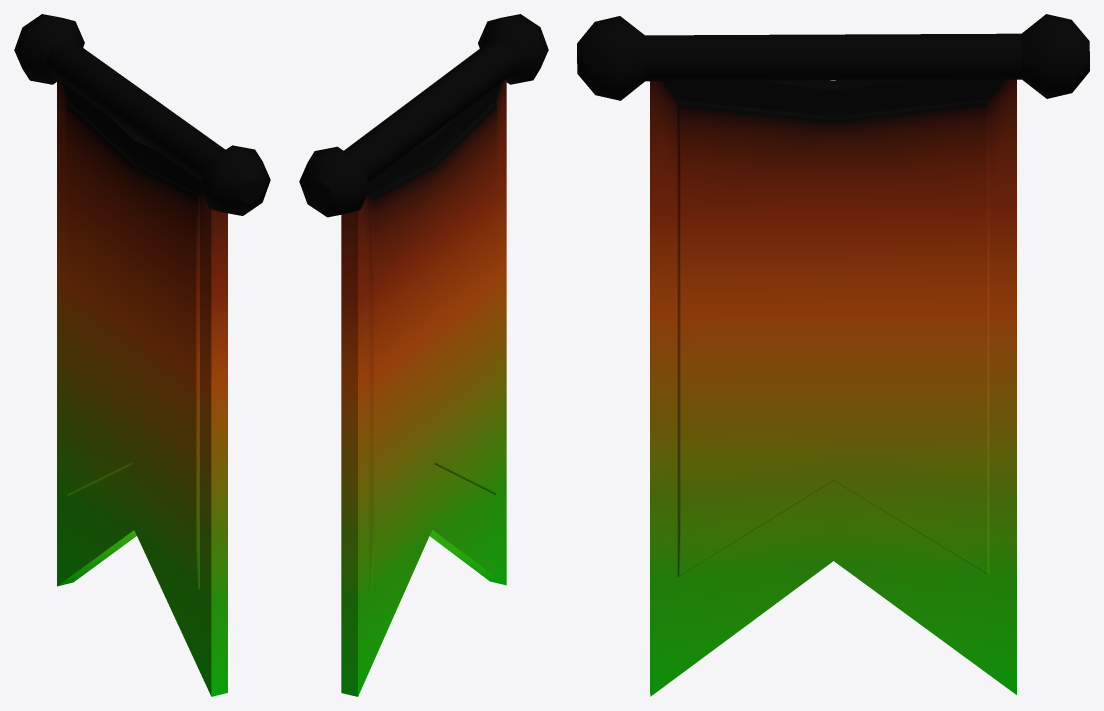
Rendered from ArenaScene_Flag.fbx.
The picture shows the model from 3 angles, left to right: view 1: azimuth 30°, elevation 25°; view 2: azimuth 150°, elevation 25°; view 3: azimuth 270°, elevation 25°; orthographic projection. The views are drawn at different scales.
Parts seen in each view (by area): view 1: Flag; view 2: Flag; view 3: Flag.
Boxes of the visible parts, x1=… form: Flag: x1=14, y1=14, x2=270, y2=696; Flag: x1=299, y1=14, x2=548, y2=696; Flag: x1=577, y1=14, x2=1089, y2=696.
Bounding box in the file's own units: 128 × 1002 × 690.
